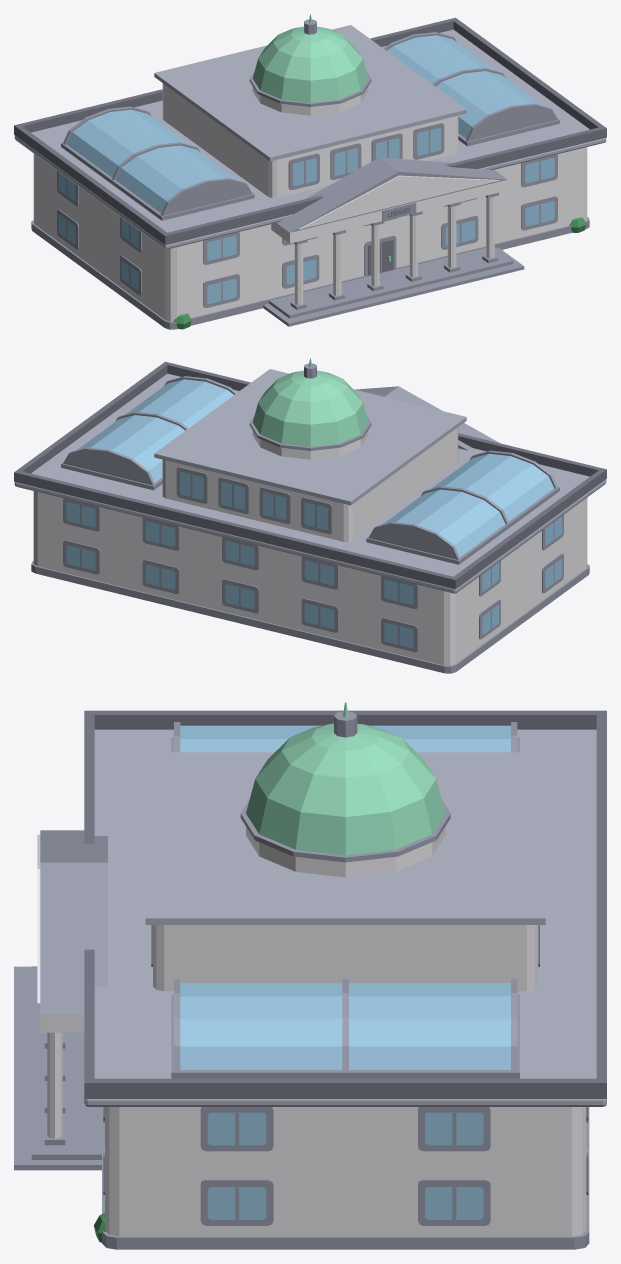
File: library-3x2.glb
3 views of the same model, one above another, from view 1: azimuth 30°, elevation 25°; view 2: azimuth 150°, elevation 25°; view 3: azimuth 270°, elevation 25° (orthographic). The views are drawn at different scales.
Visible parts, largest first — view 1: library-3x2; view 2: library-3x2; view 3: library-3x2.
Boxes of the visible parts, box(x1,y1,x2,y2) form: library-3x2: box(14, 14, 606, 329); library-3x2: box(14, 358, 606, 673); library-3x2: box(14, 702, 606, 1249).
Bounding box in the file's own units: 3 × 1.38 × 2.02.
1 material, 1 textured.
